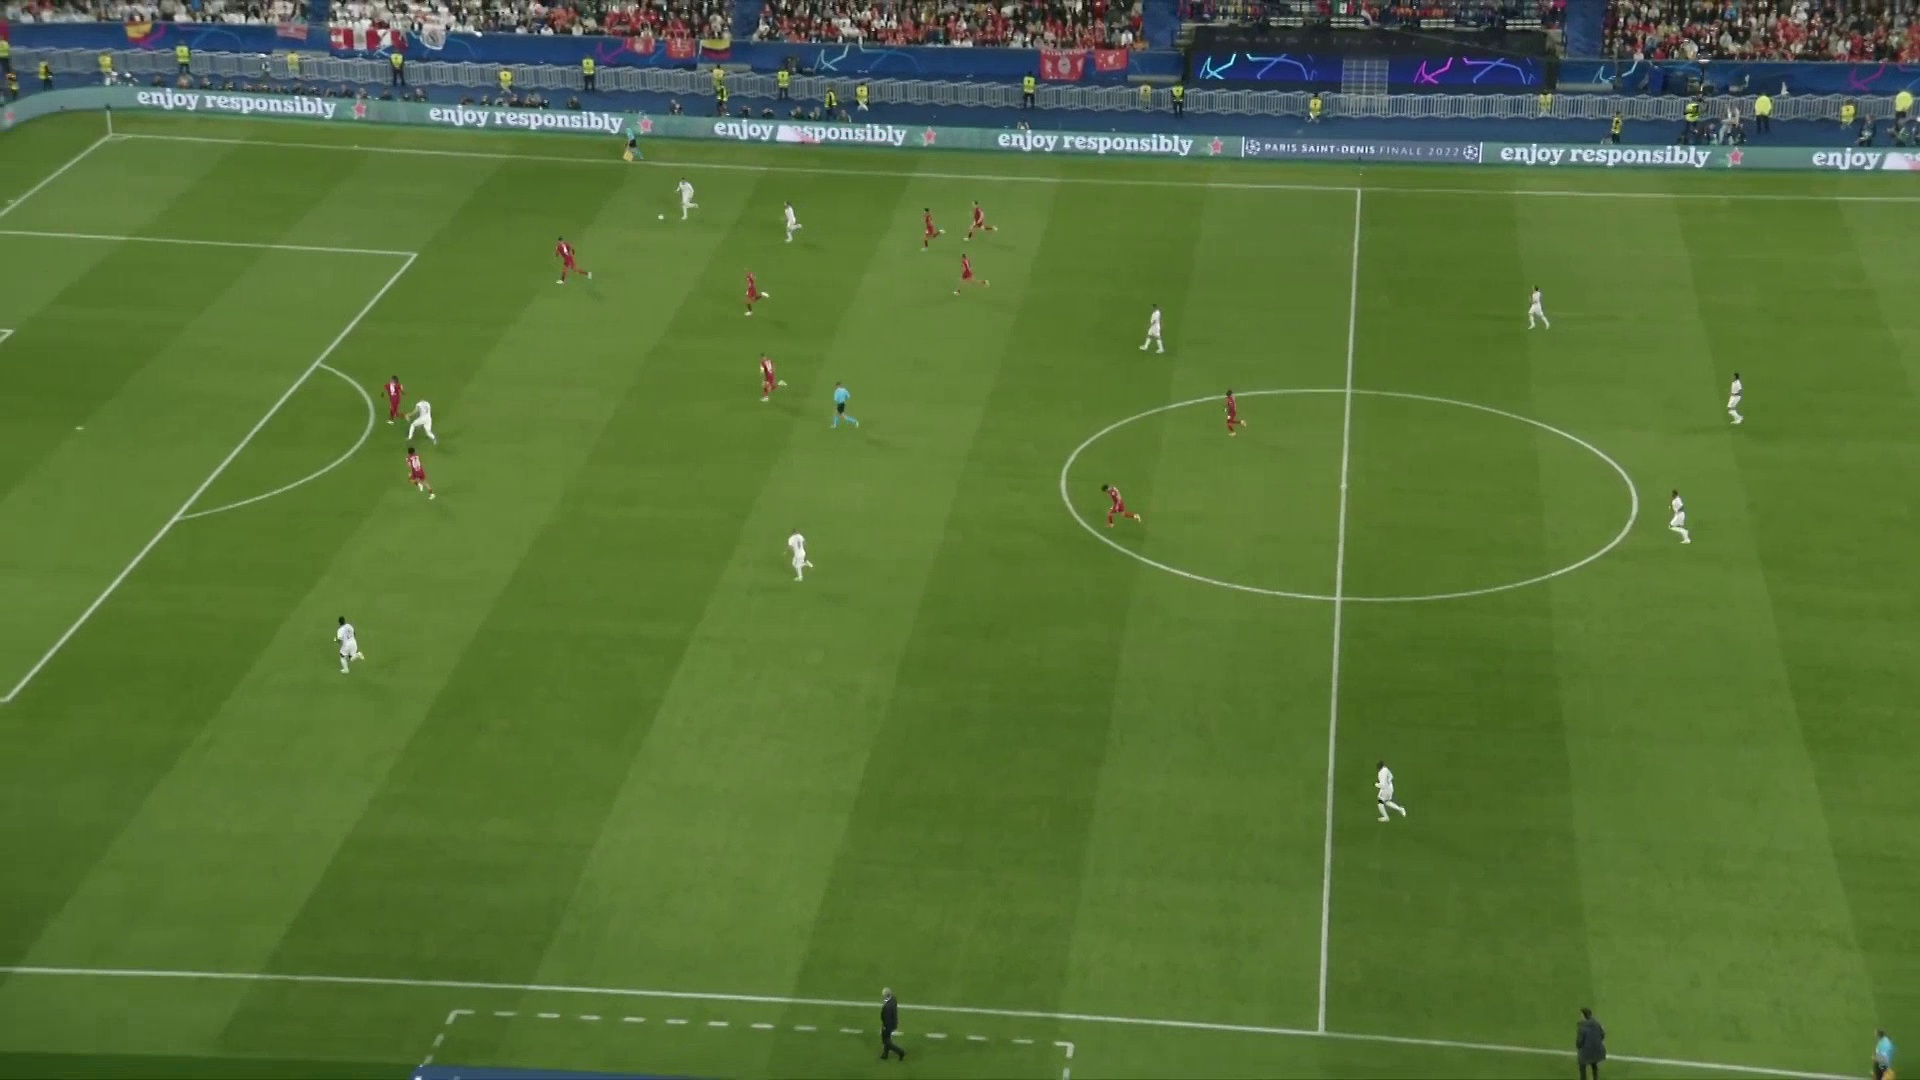ball: (653, 203, 668, 224)
player 1: (672, 177, 707, 224)
player 10: (1668, 483, 1707, 567)
player 11: (1357, 752, 1418, 834)
player 13: (541, 231, 593, 289)
player 14: (396, 453, 452, 500)
player 15: (731, 267, 778, 319)
player 16: (377, 360, 405, 427)
player 17: (752, 343, 804, 414)
player 18: (909, 207, 957, 259)
player 19: (950, 256, 993, 300)
player 2: (772, 194, 812, 246)
player 20: (963, 187, 1002, 244)
player 21: (1213, 383, 1258, 440)
player 22: (1095, 476, 1144, 539)
player 3: (319, 599, 371, 677)
player 4: (407, 394, 442, 440)
player 5: (769, 521, 828, 591)
player 7: (1131, 295, 1176, 364)
player 8: (1519, 278, 1565, 334)
player 9: (1717, 366, 1765, 440)
reffree: (828, 377, 866, 433)
